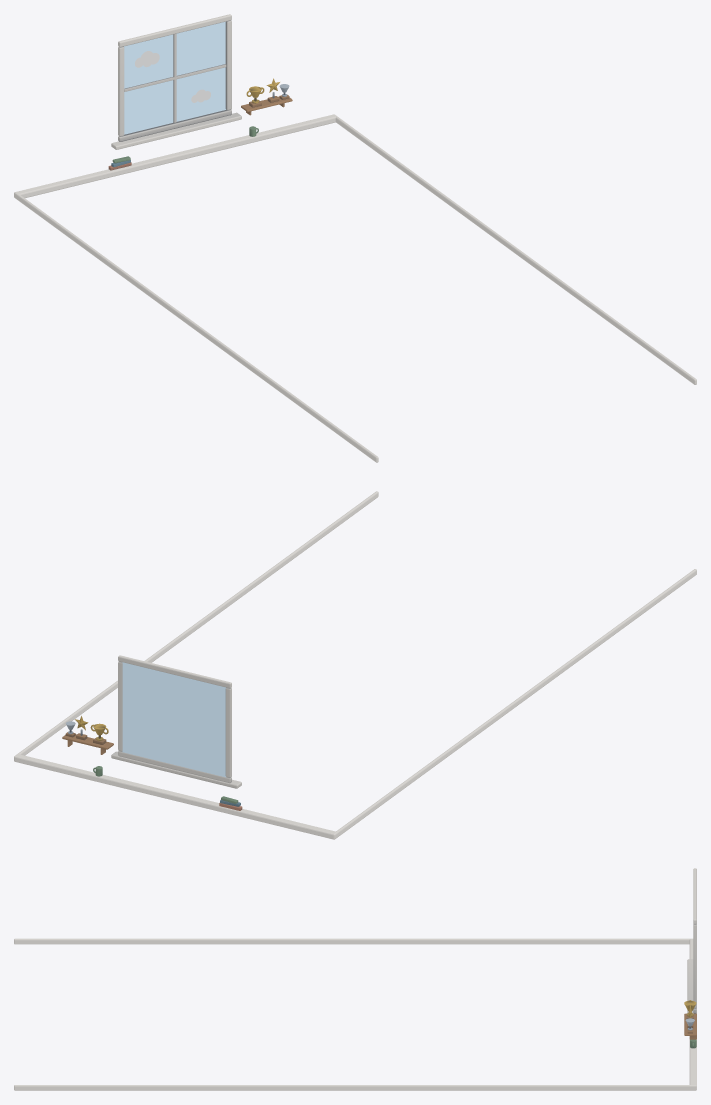
File: study_props.glb
The picture shows the model from 3 angles, top to bottom: view 1: azimuth 30°, elevation 25°; view 2: azimuth 150°, elevation 25°; view 3: azimuth 270°, elevation 25°; orthographic projection. The views are drawn at different scales.
Visible parts, largest first — view 1: room_static, window_glass; view 2: room_static, window_glass; view 3: room_static.
Part boxes in pixels (left/top/right/bottom): room_static: left=14, top=14, right=696, bottom=462; window_glass: left=124, top=21, right=225, bottom=134; room_static: left=14, top=491, right=696, bottom=839; window_glass: left=122, top=662, right=226, bottom=777; room_static: left=14, top=868, right=696, bottom=1090.
Size of the model in its own units: 9.4 by 3.67 by 18.4.
